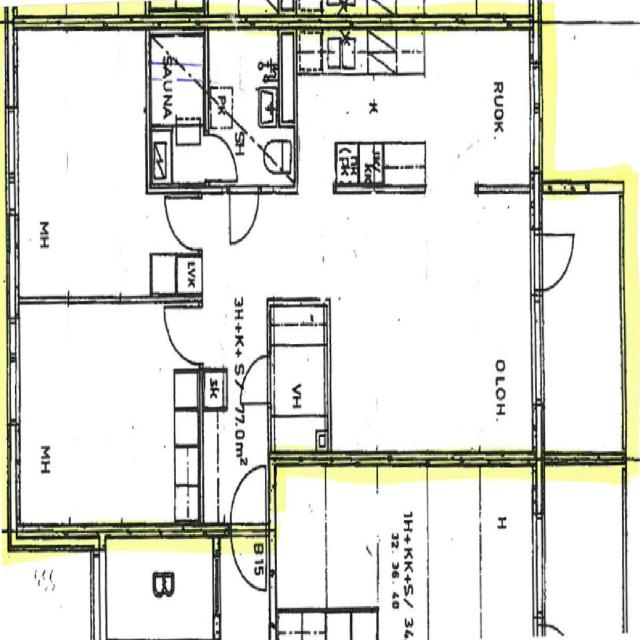door: (231, 522, 266, 596), (231, 462, 266, 536), (530, 234, 574, 290), (168, 308, 202, 363), (168, 198, 203, 250), (230, 187, 259, 243), (205, 133, 236, 180), (241, 356, 271, 403)
